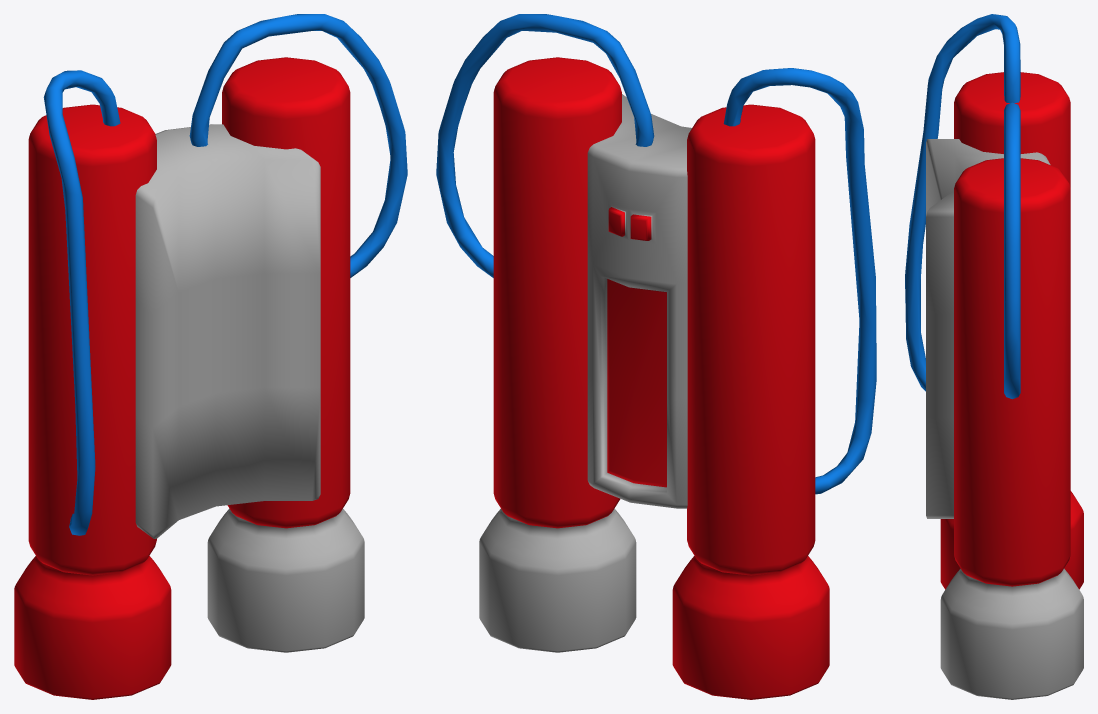
The model's file is Jetpack.fbx.
3 renders of one model, left to right at view 1: azimuth 30°, elevation 25°; view 2: azimuth 150°, elevation 25°; view 3: azimuth 270°, elevation 25°, orthographic. The views are drawn at different scales.
Visible parts, largest first — view 1: Jetpack; view 2: Jetpack; view 3: Jetpack.
Boxes of the visible parts, x1,y1,x2,y2 form: Jetpack: [14, 14, 407, 699]; Jetpack: [436, 14, 876, 699]; Jetpack: [905, 14, 1083, 699].
Size of the model in its own units: 57.07 by 85.82 by 25.18.
